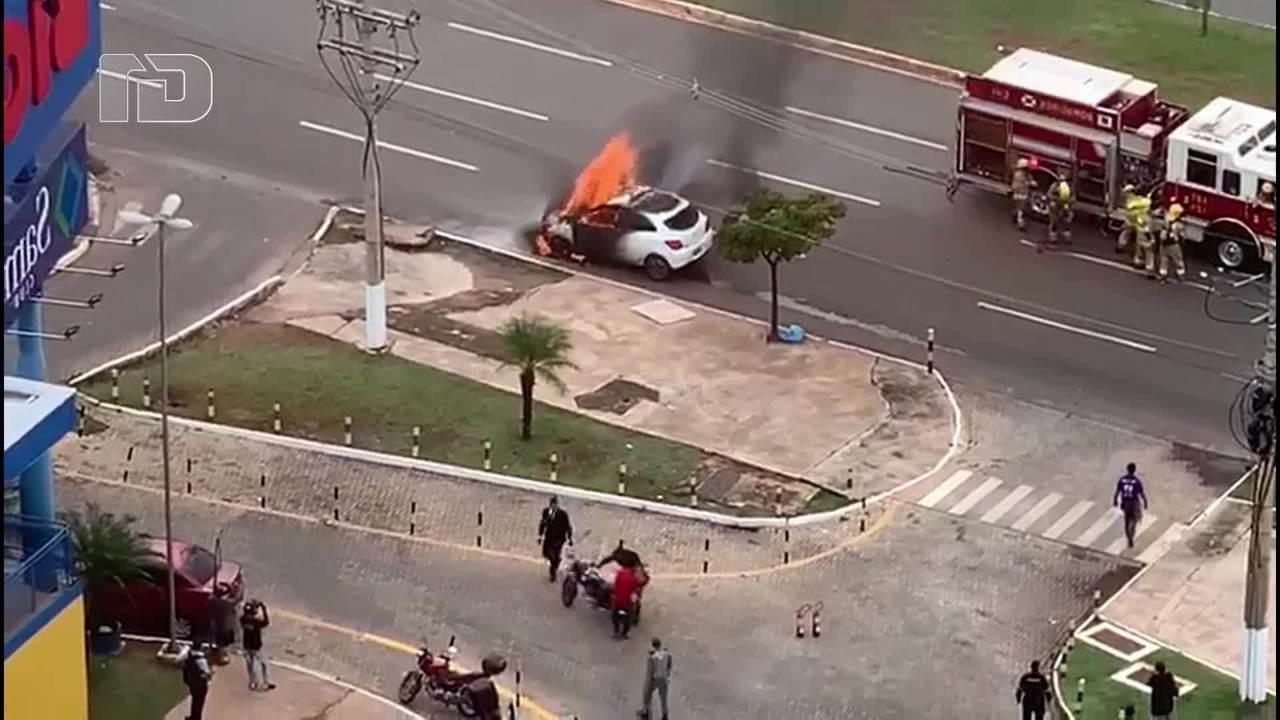Fire: (562, 134, 647, 215), (535, 235, 556, 257)
